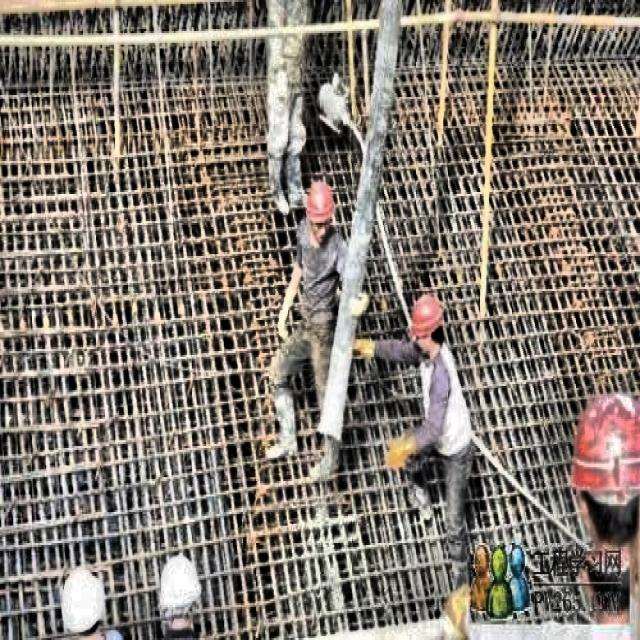helmet: (576, 380, 639, 549), (159, 549, 202, 636), (60, 561, 108, 638), (406, 287, 445, 355), (303, 176, 337, 246)
